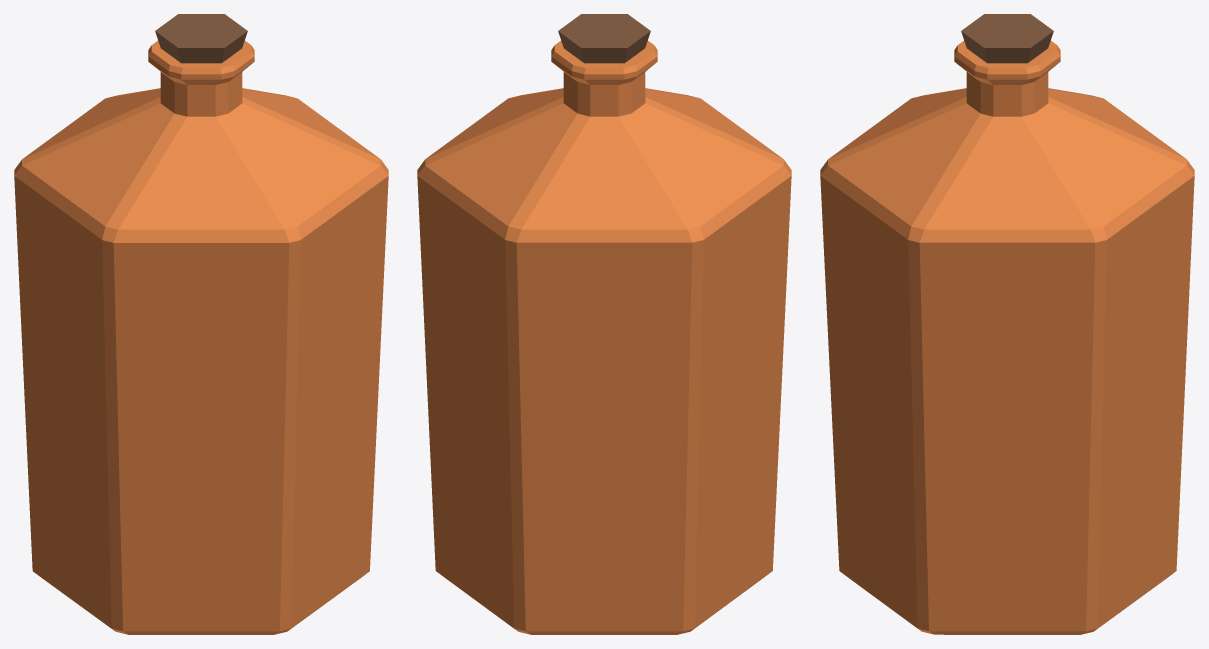
The model's file is Potion_02_Orange.fbx.
3 renders of one model, left to right at view 1: azimuth 30°, elevation 25°; view 2: azimuth 150°, elevation 25°; view 3: azimuth 270°, elevation 25°, orthographic.
Parts seen in each view (by area): view 1: Cone.005, Cylinder.015, Cylinder.014; view 2: Cone.005, Cylinder.015, Cylinder.014; view 3: Cone.005, Cylinder.015, Cylinder.014.
Part boxes in pixels (x1,y1,x2,y2): Cone.005: (14,88,388,634); Cylinder.015: (148,40,254,116); Cylinder.014: (155,14,247,63); Cone.005: (417,88,791,634); Cylinder.015: (551,40,657,116); Cylinder.014: (558,14,650,63); Cone.005: (820,88,1194,634); Cylinder.015: (954,40,1060,116); Cylinder.014: (961,14,1053,63).
Bounding box in the file's own units: 14.97 × 27.16 × 16.94.
